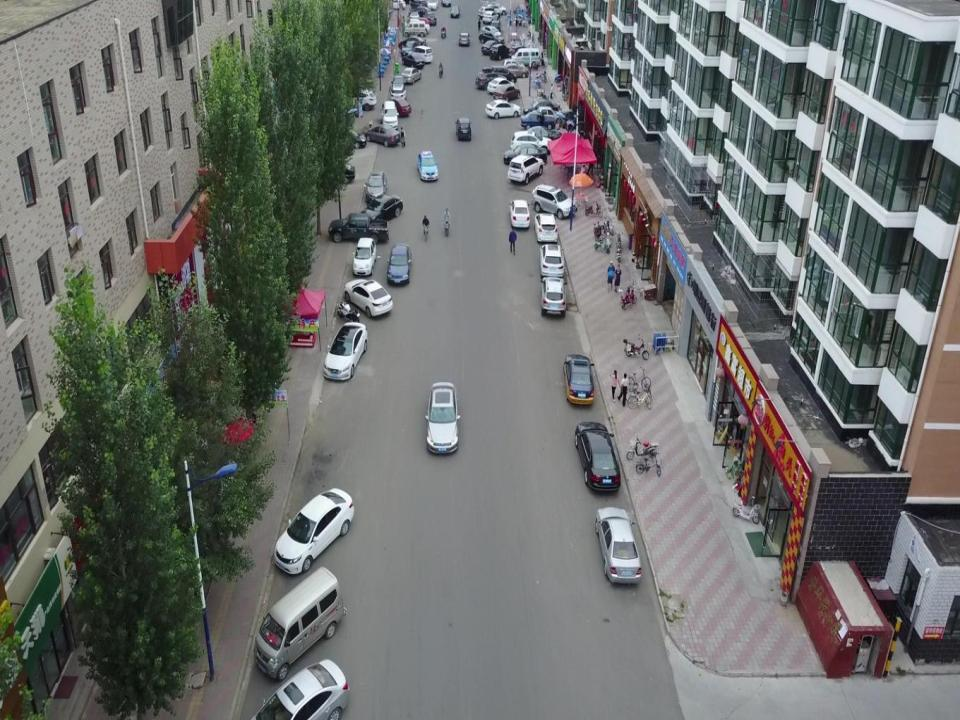car: (274, 487, 356, 575), (251, 660, 349, 720), (595, 506, 641, 588), (576, 419, 620, 495), (323, 321, 367, 382), (427, 380, 460, 455), (345, 278, 392, 318), (563, 353, 596, 407), (532, 183, 576, 220), (360, 196, 403, 227), (508, 154, 544, 186), (511, 131, 553, 158), (541, 276, 567, 319), (387, 242, 412, 284), (352, 237, 376, 279), (503, 144, 547, 166), (316, 158, 356, 182), (520, 126, 564, 147), (539, 244, 565, 278), (364, 125, 400, 148), (329, 128, 366, 149), (534, 212, 558, 244), (475, 68, 508, 91), (342, 89, 376, 111), (521, 110, 555, 131), (366, 170, 388, 202), (416, 150, 438, 182), (486, 100, 521, 120), (509, 198, 530, 229), (530, 107, 566, 125), (524, 102, 559, 120), (382, 98, 411, 118), (488, 77, 514, 96), (500, 63, 528, 80), (399, 36, 427, 52), (494, 86, 520, 102), (490, 44, 512, 62), (502, 58, 526, 74), (401, 54, 425, 70), (481, 40, 504, 56), (479, 32, 505, 46), (481, 26, 502, 43), (508, 44, 527, 61), (402, 68, 422, 84), (390, 85, 406, 103), (486, 3, 508, 15), (402, 42, 420, 56), (392, 75, 405, 94), (478, 6, 497, 18), (458, 31, 471, 48), (483, 12, 498, 25), (450, 4, 460, 19), (441, 0, 453, 8)
truck: (328, 212, 390, 244)
van: (253, 566, 346, 681), (512, 47, 541, 67), (382, 100, 400, 132), (491, 65, 516, 86), (410, 46, 432, 64), (456, 118, 472, 142)
